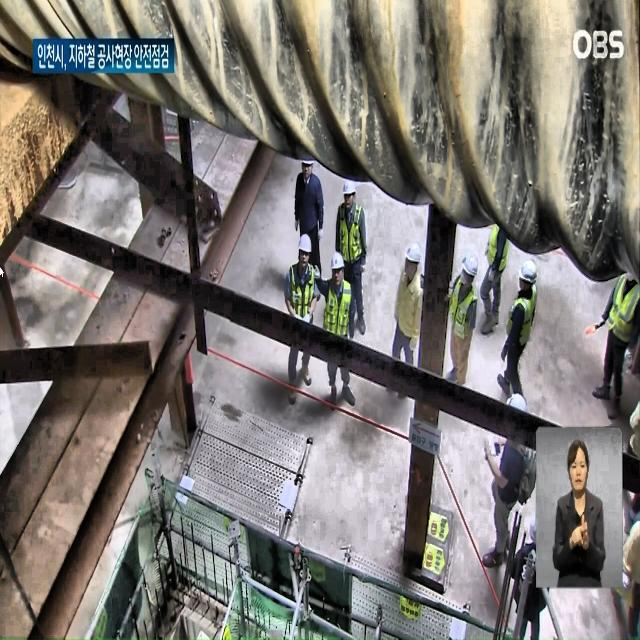safety_helmet: (520, 260, 540, 284), (462, 246, 478, 275), (403, 242, 420, 267), (341, 175, 357, 201), (298, 230, 312, 254), (331, 252, 346, 273)
safety_jacket: (605, 267, 640, 349), (337, 199, 366, 274), (507, 289, 538, 356), (324, 278, 352, 346), (289, 264, 315, 334), (485, 212, 510, 281), (448, 282, 476, 340)
